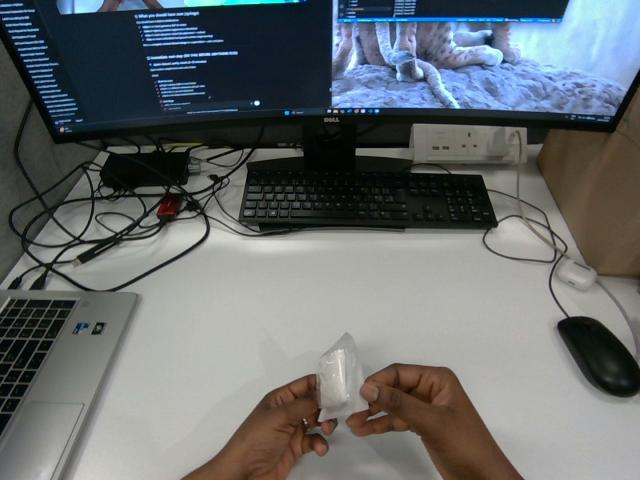gauze: (317, 333, 367, 421)
